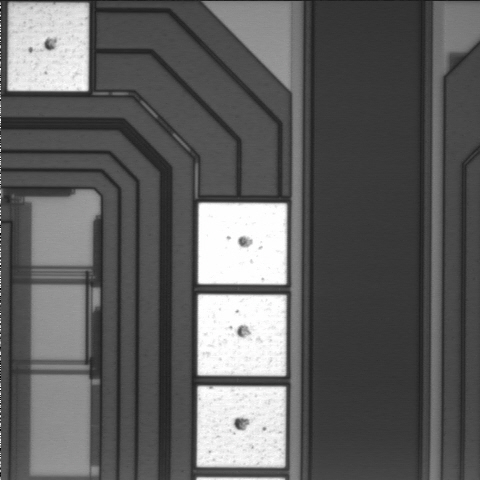pad: (198, 203, 287, 285), (198, 294, 286, 376), (197, 386, 286, 467), (8, 3, 89, 91)
